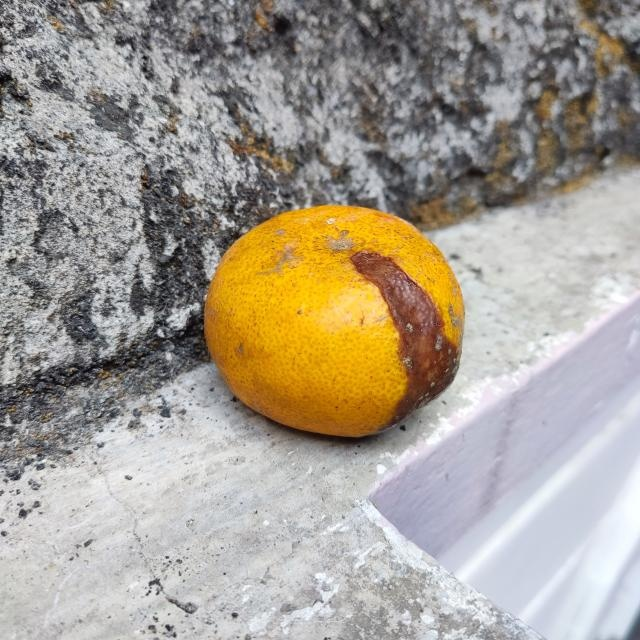agrume: (204, 204, 469, 440)
